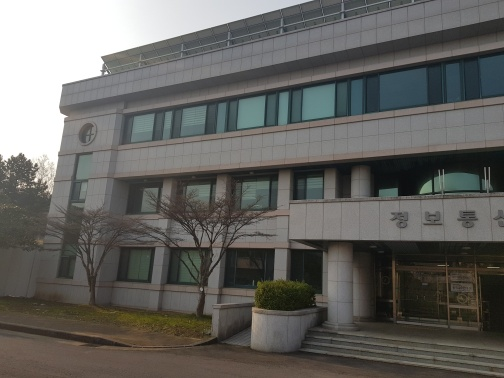Information Telecommunication Center: (47, 31, 492, 323), (372, 248, 500, 335), (358, 193, 477, 243)
